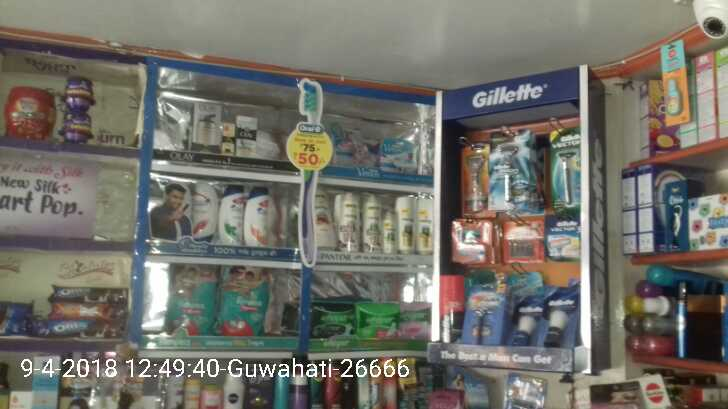gillete: (496, 129, 534, 205), (552, 131, 582, 204), (461, 141, 490, 212), (469, 287, 502, 347), (545, 290, 577, 346), (510, 292, 542, 347), (454, 223, 500, 261), (441, 277, 463, 342), (505, 223, 541, 260), (549, 220, 578, 259)
venus: (335, 121, 375, 168), (379, 139, 415, 169)
